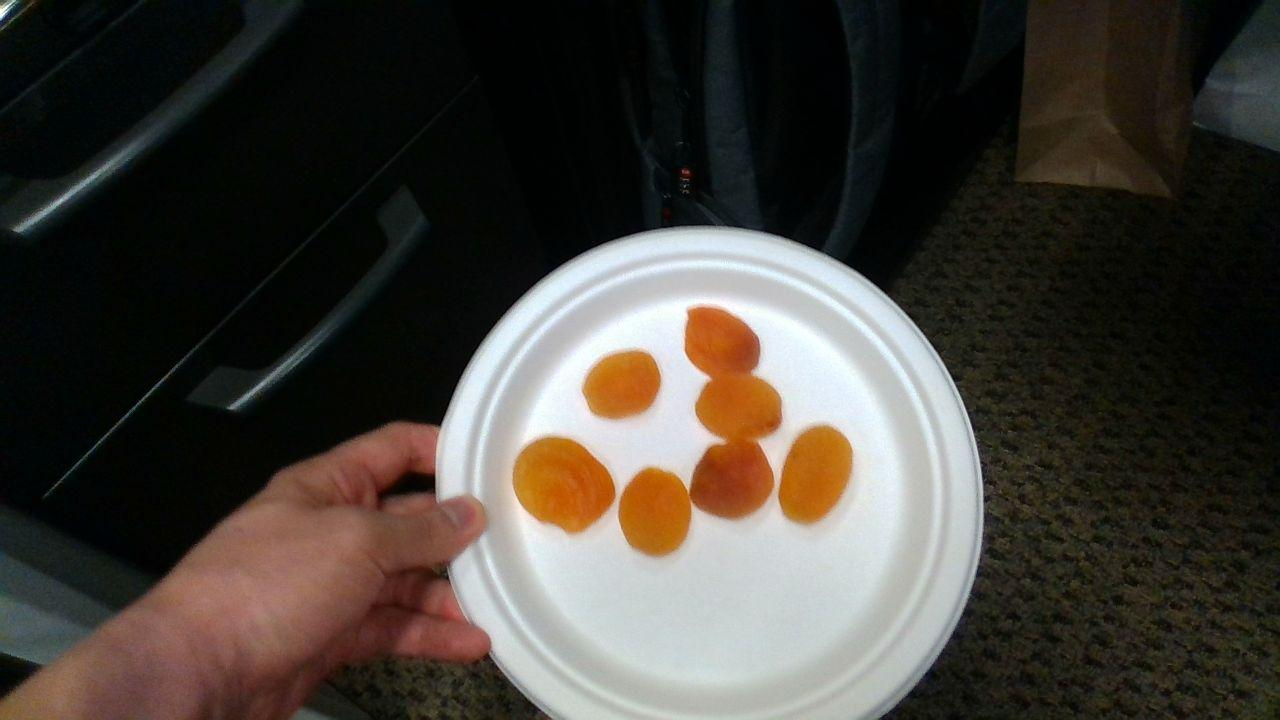apricot: (512, 438, 615, 532), (779, 428, 852, 521), (691, 442, 773, 519), (619, 470, 691, 555), (696, 377, 781, 440), (686, 307, 760, 378), (583, 351, 661, 418)
plate: (438, 229, 981, 719)
